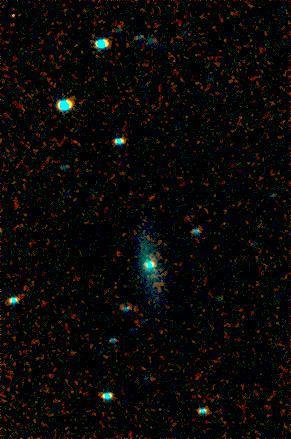star: (0, 3, 30, 33)
